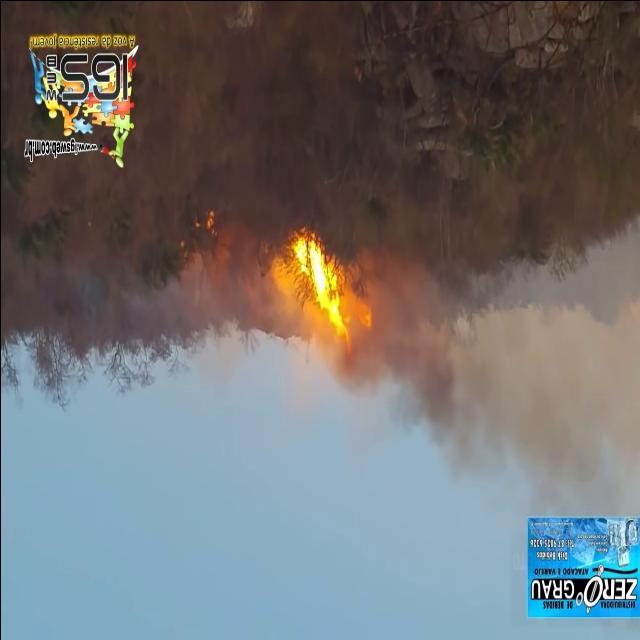Fire: (284, 237, 367, 341), (205, 210, 218, 228)
